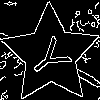Y: (25, 29, 80, 84)
